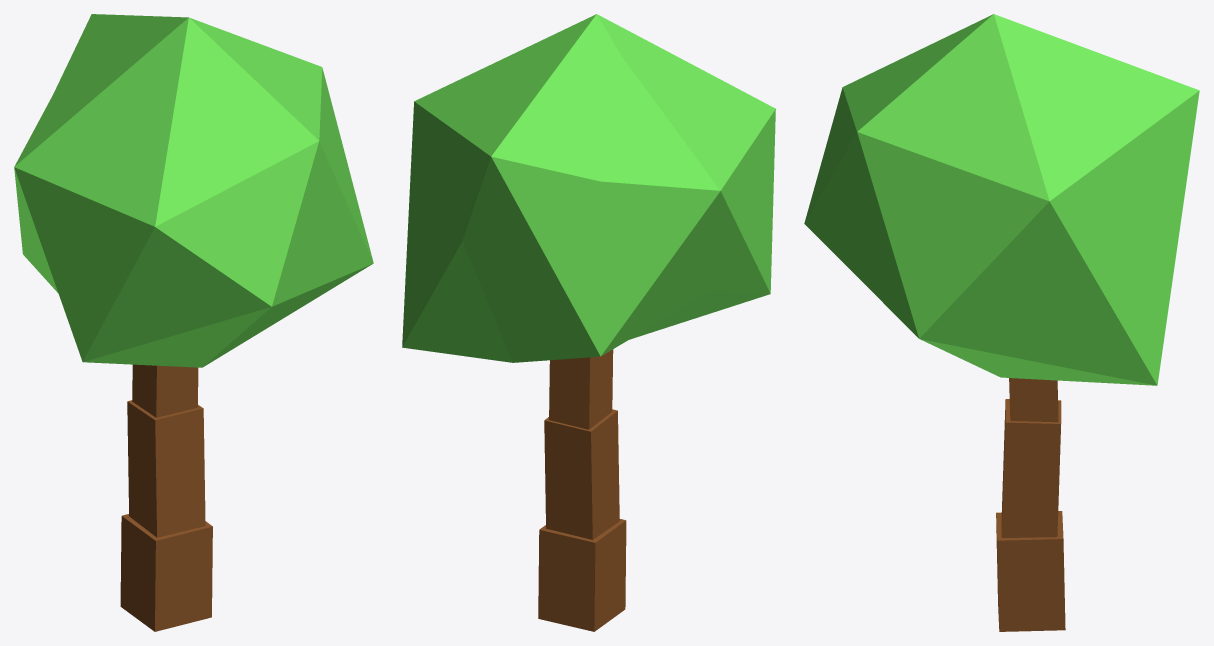
The model's file is Tree1.fbx.
The picture shows the model from 3 angles, left to right: view 1: azimuth 30°, elevation 25°; view 2: azimuth 150°, elevation 25°; view 3: azimuth 270°, elevation 25°; orthographic projection. The views are drawn at different scales.
Parts seen in each view (by area): view 1: Tree1; view 2: Tree1; view 3: Tree1.
Part boxes in pixels (x1,y1,x2,y2): Tree1: [14, 14, 373, 631]; Tree1: [402, 14, 775, 631]; Tree1: [804, 14, 1199, 631].
Bounding box in the file's own units: 568 × 1055 × 624.
